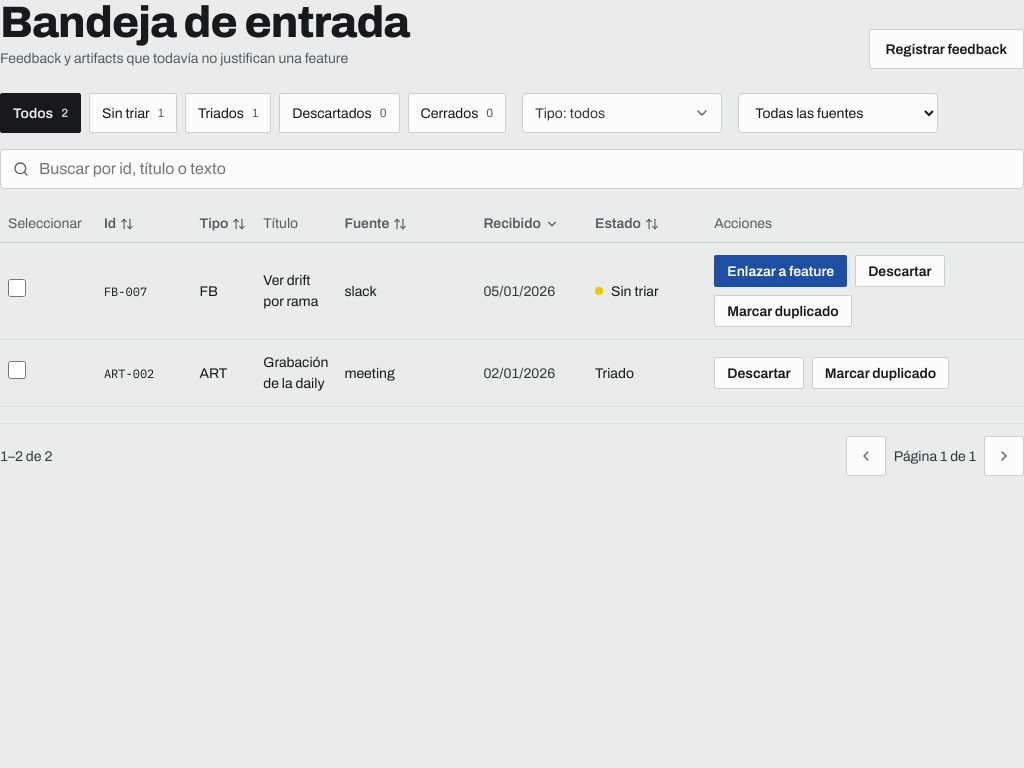
Test case: Entrada › explains a 409 pending_republish instead of a generic error
This screenshot has width=1024, height=768.
Click the button with aria-label "Enlazar FB-007 a una feature". click: (781, 271)
box: [714,255,847,287]
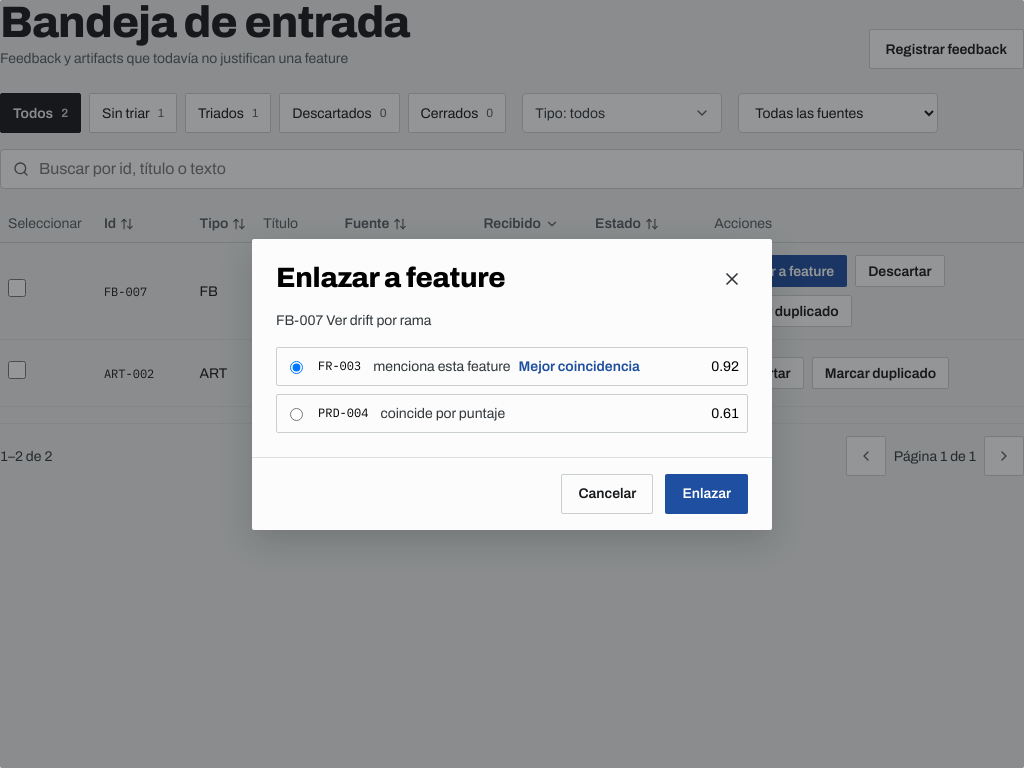
Click the button "Enlazar". click: (707, 494)
box: [665,474,748,514]
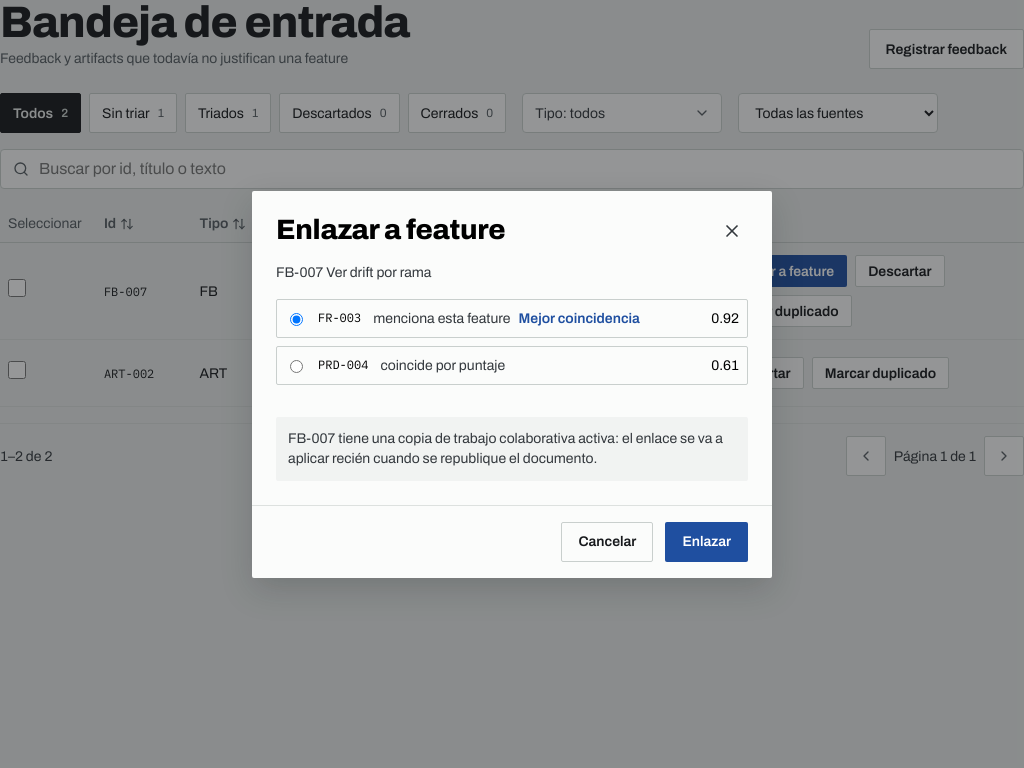
Check: the text "se va a aplicar recién cuando se republique el documento" is shown, box [288,430,723,466]
